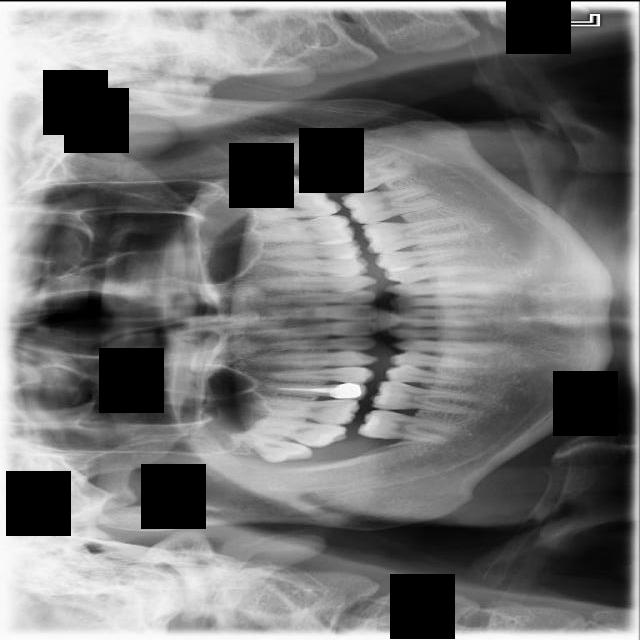3M ESPE Implant: (227, 427, 315, 470)
52: (320, 380, 368, 401)
73: (261, 381, 332, 396), (580, 24, 585, 28)
BioHorizons Implant: (230, 187, 343, 225)
BioLife Implant: (214, 159, 314, 212)
Biomet 3i Implant: (327, 145, 417, 199)
Blue Sky Bio Implant: (340, 180, 446, 227)
Caries: (240, 418, 348, 449)
Implant: (356, 407, 457, 444)
